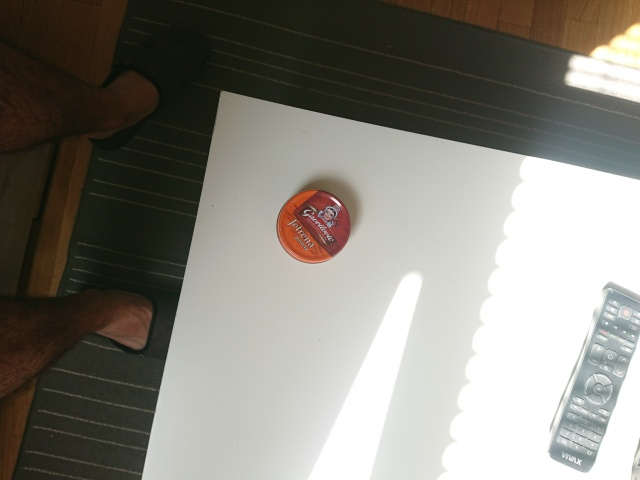Gavrilovic Pork Liver Pate 100g: (273, 186, 353, 266)
